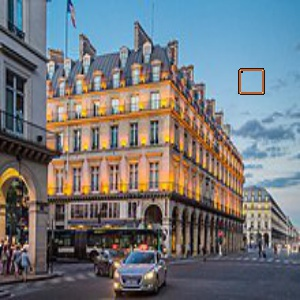square: (236, 67, 267, 96)
